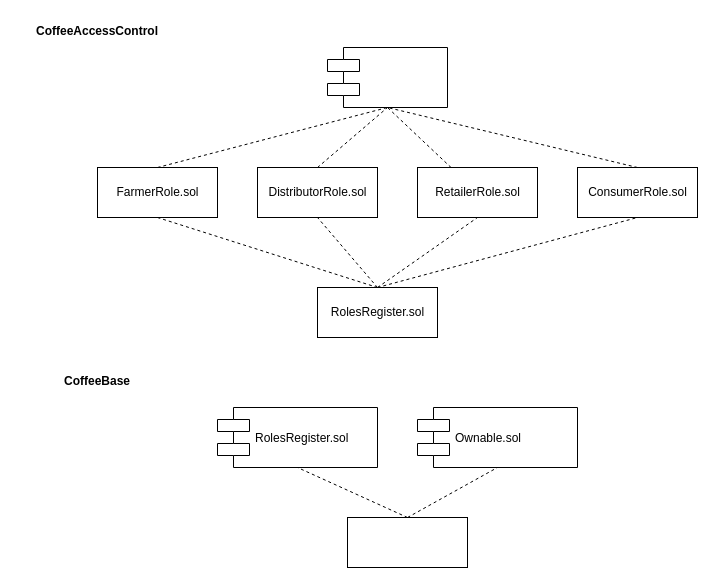
Some shapes in this 715 by 585 pixel diagram are drawn without their labels. Here are the shapes that lost their labels. From the top down, the box of each, then its label:
(326, 46, 448, 108): Roles.sol
(346, 516, 468, 568): SupplyChain.sol
